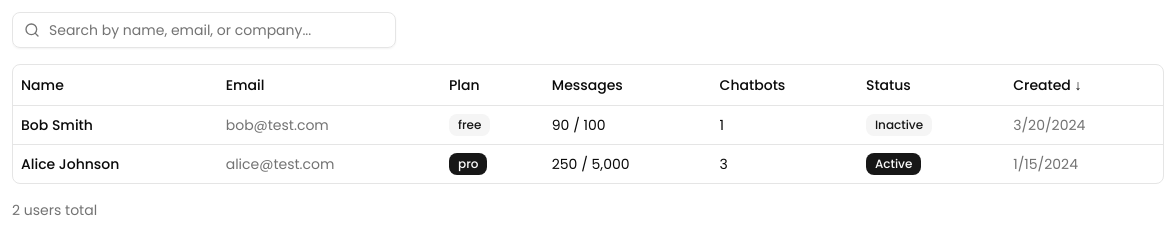
it: UserTable › shows no users message when search has no results
In the field with placeholder "Search by name, email, or company...": (204, 30) [12, 12, 396, 48], type "zzzznotfound"
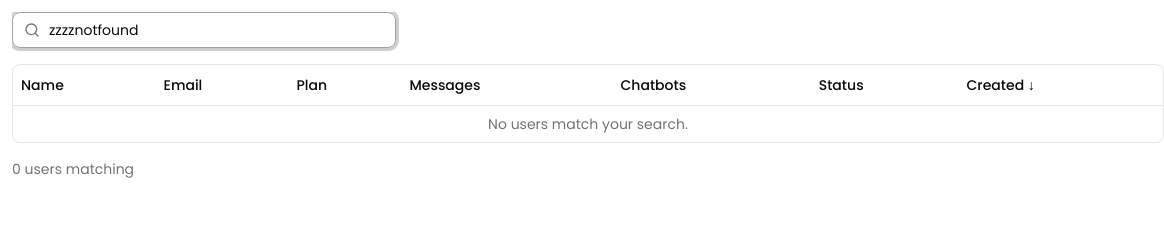
Expected: the text "No users match your search." is shown, [13, 105, 1163, 142]
Expected: the text "0 users matching" is shown, [12, 158, 134, 178]
